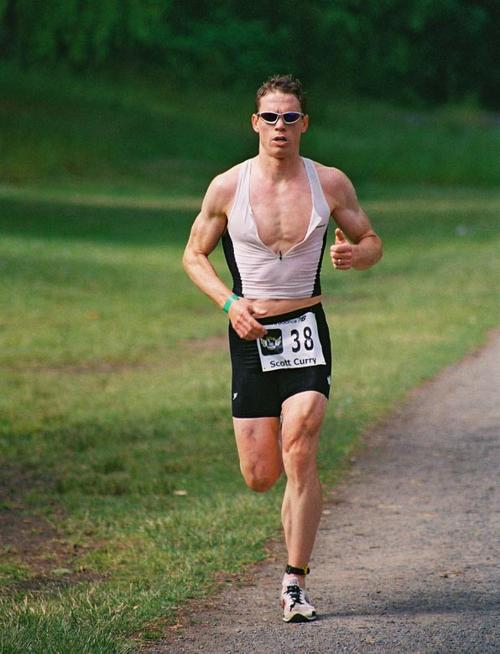person: (180, 74, 384, 618)
